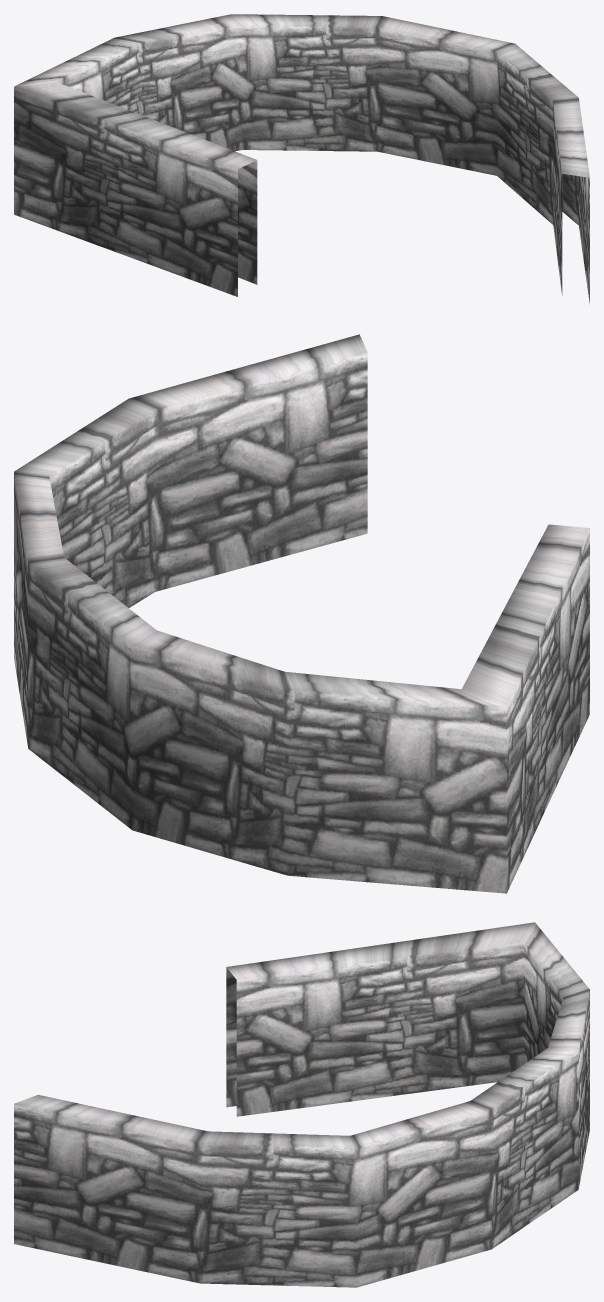
File: HTOWN01_BAGENDTERRACE2.fbx
3 renders of one model, top to bottom at view 1: azimuth 30°, elevation 25°; view 2: azimuth 150°, elevation 25°; view 3: azimuth 270°, elevation 25°, orthographic. The views are drawn at different scales.
Parts seen in each view (by area): view 1: HTOWN01_BAGENDTERRACE2; view 2: HTOWN01_BAGENDTERRACE2; view 3: HTOWN01_BAGENDTERRACE2.
Part boxes in pixels (x1,y1,x2,y2): HTOWN01_BAGENDTERRACE2: [14, 14, 589, 304]; HTOWN01_BAGENDTERRACE2: [14, 334, 589, 893]; HTOWN01_BAGENDTERRACE2: [14, 922, 589, 1287].
Size of the model in its own units: 43524 by 12675 by 47104.
Materials: 1 (1 with a texture image).
